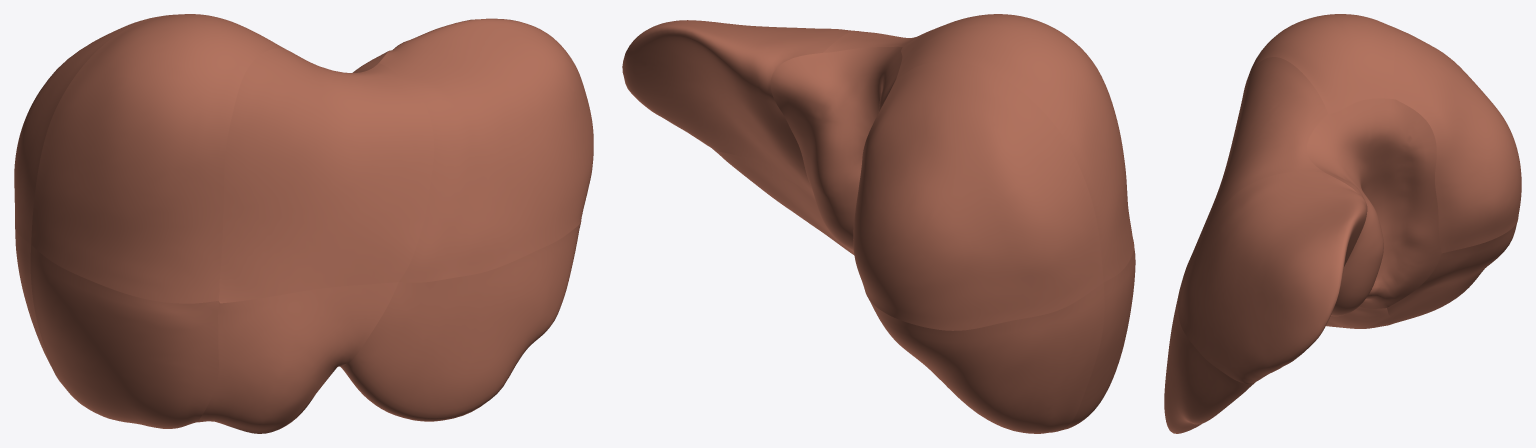
Rendered from liver.glb.
The picture shows the model from 3 angles, left to right: view 1: azimuth 30°, elevation 25°; view 2: azimuth 150°, elevation 25°; view 3: azimuth 270°, elevation 25°; orthographic projection. The views are drawn at different scales.
Parts seen in each view (by area): view 1: VH_F_right_anterosuperior_segment, VH_F_left_superomedial_segment1, VH_F_left_superomedial_segment, VH_F_left_anterolateral_segment, VH_F_right_anteroinferior_segment, VH_F_left_inferomedial_segment, VH_F_right_posterosuperior_segment, VH_F_right_posteroinferior_segment; view 2: VH_F_right_posterosuperior_segment, VH_F_left_superomedial_segment, VH_F_right_anterosuperior_segment, VH_F_right_posteroinferior_segment, VH_F_caudate_lobe, VH_F_right_anteroinferior_segment, VH_F_left_anterolateral_segment, VH_F_left_superomedial_segment1; view 3: VH_F_left_superomedial_segment, VH_F_caudate_lobe, VH_F_right_posterosuperior_segment, VH_F_left_superomedial_segment1, VH_F_right_anterosuperior_segment, VH_F_left_anterolateral_segment, VH_F_right_posteroinferior_segment, VH_F_right_anteroinferior_segment.
Boxes of the visible parts, x1,y1,x2,y2 form: VH_F_right_anterosuperior_segment: (31, 14, 286, 303); VH_F_left_superomedial_segment1: (218, 48, 434, 303); VH_F_left_superomedial_segment: (379, 18, 593, 282); VH_F_left_anterolateral_segment: (340, 223, 580, 421); VH_F_right_anteroinferior_segment: (30, 245, 219, 428); VH_F_left_inferomedial_segment: (198, 282, 398, 433); VH_F_right_posterosuperior_segment: (14, 16, 157, 244); VH_F_right_posteroinferior_segment: (15, 227, 52, 368); VH_F_right_posterosuperior_segment: (853, 61, 1103, 330); VH_F_left_superomedial_segment: (622, 20, 854, 195); VH_F_right_anterosuperior_segment: (896, 14, 1134, 282); VH_F_right_posteroinferior_segment: (869, 283, 1104, 433); VH_F_caudate_lobe: (770, 46, 902, 250); VH_F_right_anteroinferior_segment: (1060, 247, 1135, 430); VH_F_left_anterolateral_segment: (713, 149, 854, 254); VH_F_left_superomedial_segment1: (824, 30, 931, 52); VH_F_left_superomedial_segment: (1178, 171, 1367, 383); VH_F_caudate_lobe: (1306, 98, 1441, 316); VH_F_right_posterosuperior_segment: (1393, 28, 1521, 253); VH_F_left_superomedial_segment1: (1189, 57, 1327, 260); VH_F_right_anterosuperior_segment: (1248, 14, 1395, 113); VH_F_left_anterolateral_segment: (1164, 295, 1254, 433); VH_F_right_posteroinferior_segment: (1387, 221, 1517, 325); VH_F_right_anteroinferior_segment: (1326, 306, 1390, 328).
Bounding box in the file's own units: 3.35 × 2.3 × 2.25.
